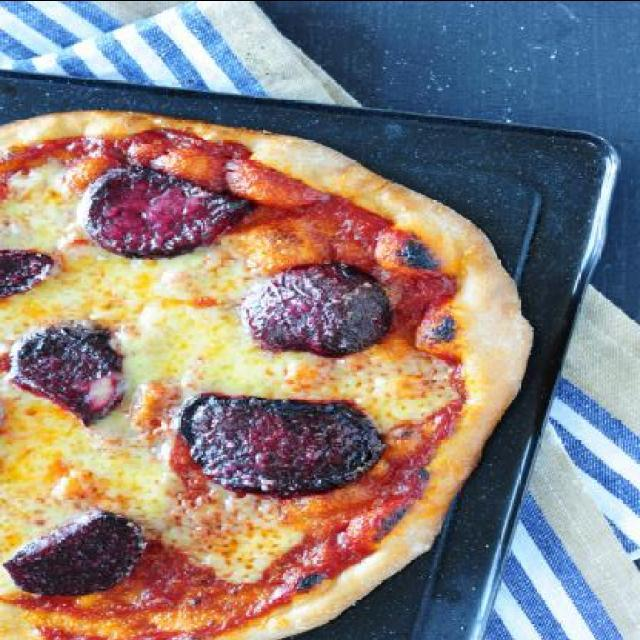Pizza: (0, 109, 531, 640)
